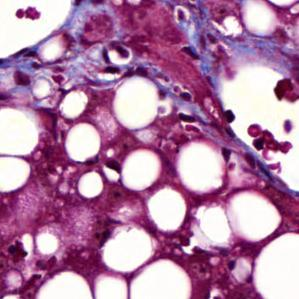steatosis: (123, 147, 162, 191), (35, 269, 92, 299), (79, 172, 104, 200)
